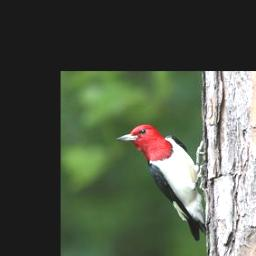Woodpecker: (113, 124, 211, 240)
